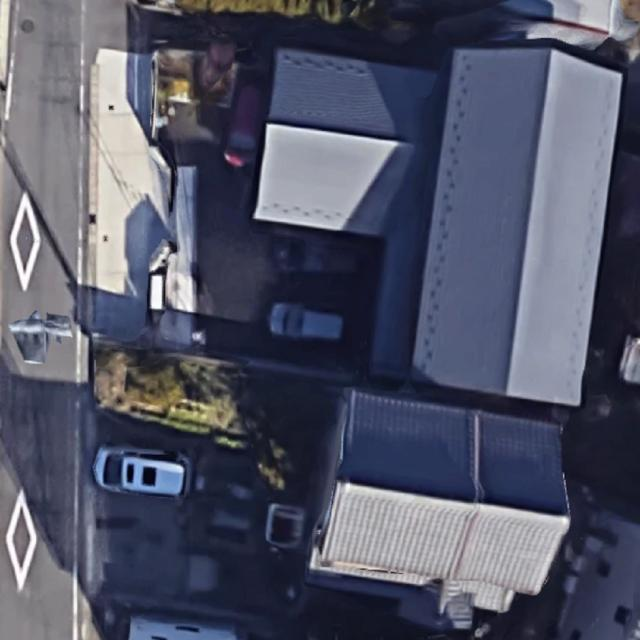Batiment: (255, 48, 622, 403), (311, 390, 569, 611)
